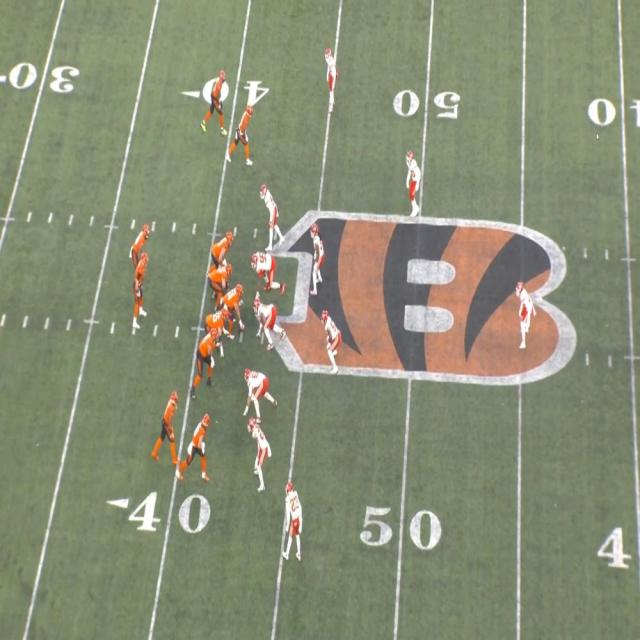center: (226, 286, 248, 325)
db: (515, 282, 538, 352), (247, 419, 270, 488), (283, 483, 302, 552), (404, 150, 422, 212), (324, 48, 339, 92)
lb: (319, 310, 341, 363), (308, 226, 326, 290)
qb: (133, 258, 148, 326)
skill: (205, 72, 232, 130), (159, 389, 181, 453), (189, 412, 212, 472), (232, 110, 254, 165), (132, 224, 150, 255)
